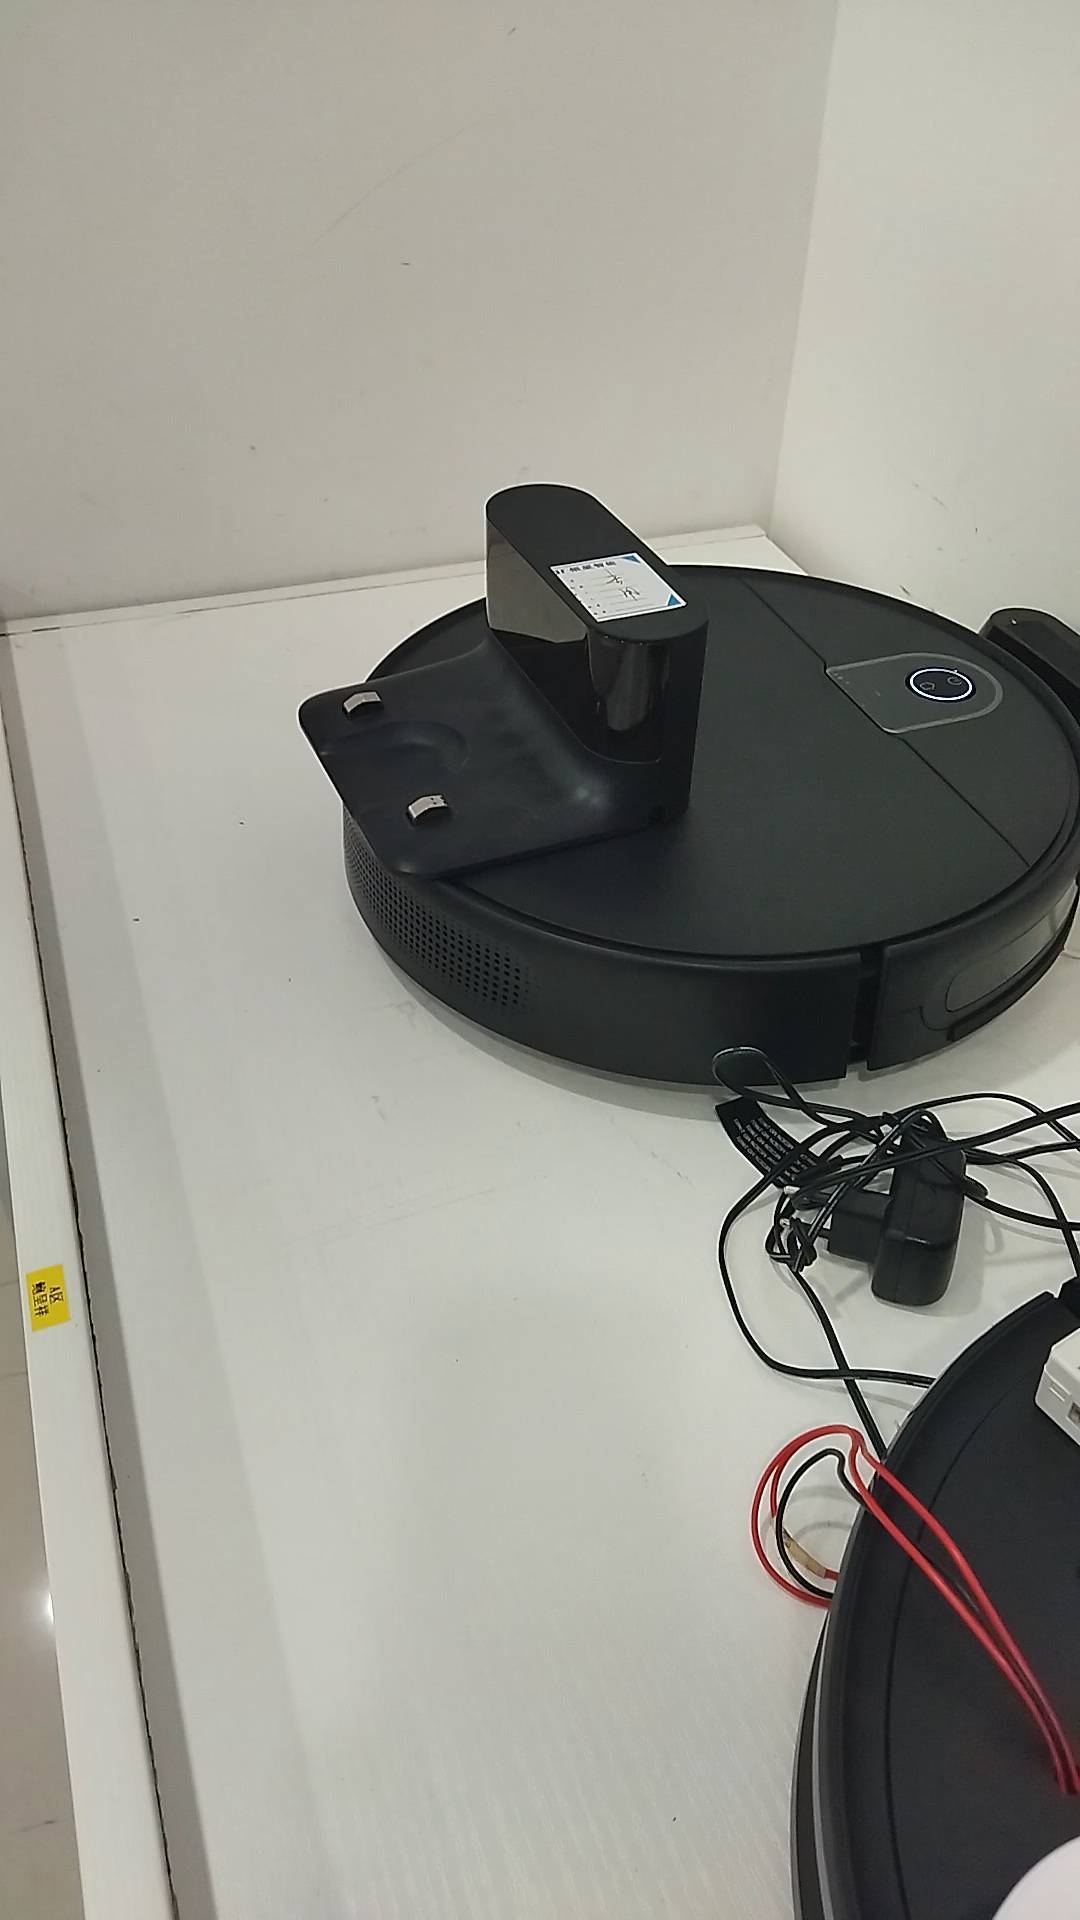recharge seat: (294, 479, 713, 885)
